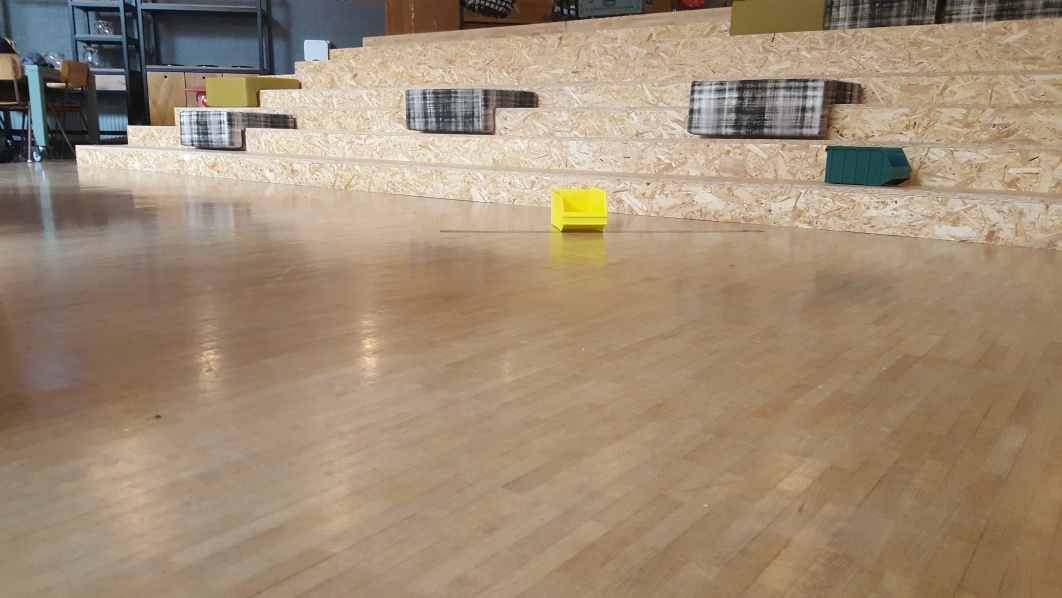tray: (823, 146, 912, 187), (547, 186, 609, 229)
